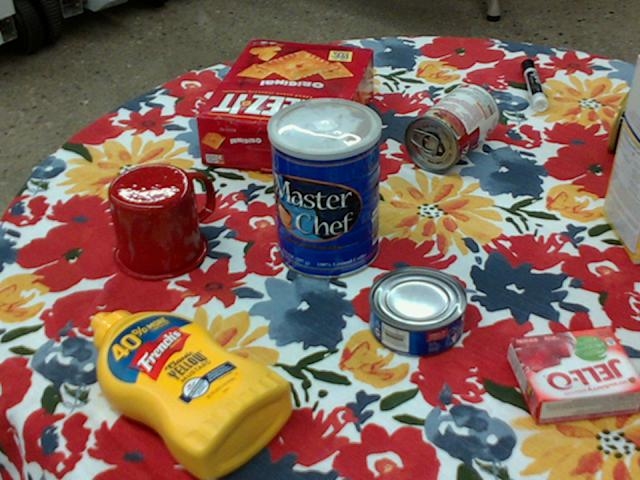cracker_box: (197, 39, 375, 178)
gelatin_box: (510, 327, 639, 423)
large_marker: (522, 58, 547, 109)
master_chef_can: (266, 96, 379, 279)
mug: (107, 163, 212, 281)
mustard_bottle: (90, 310, 293, 479)
potted_meat_can: (606, 78, 639, 154)
sugar_box: (602, 54, 639, 264)
tomato_soup_can: (405, 81, 498, 172)
tuna_fish_can: (368, 267, 468, 357)
